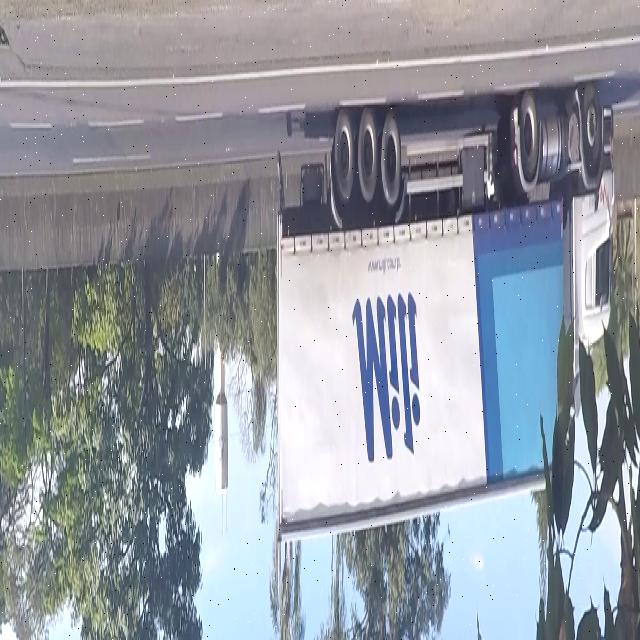-axle: (381, 98, 402, 214), (333, 101, 354, 213), (581, 75, 601, 183), (358, 103, 377, 209), (518, 91, 539, 183)
